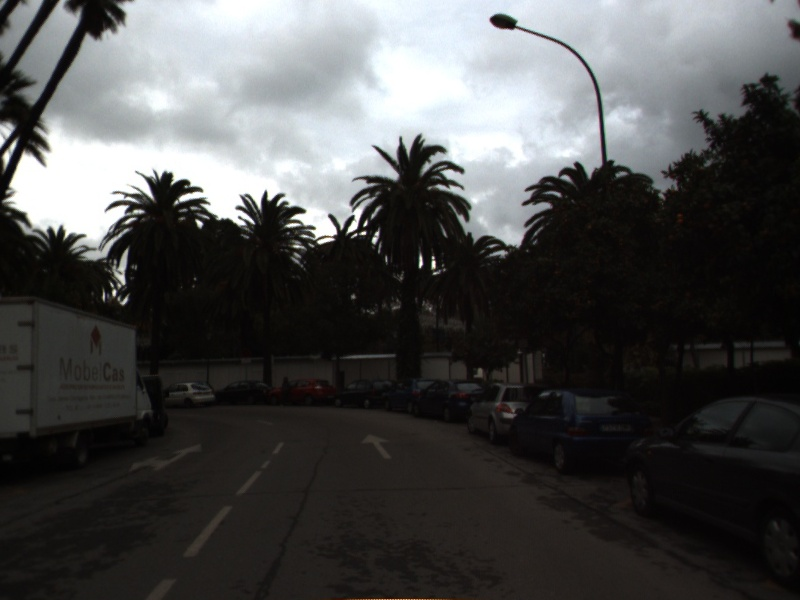STRAIGHT: (359, 432, 395, 461)
STRAIGHT_LEFT: (126, 440, 205, 476)
